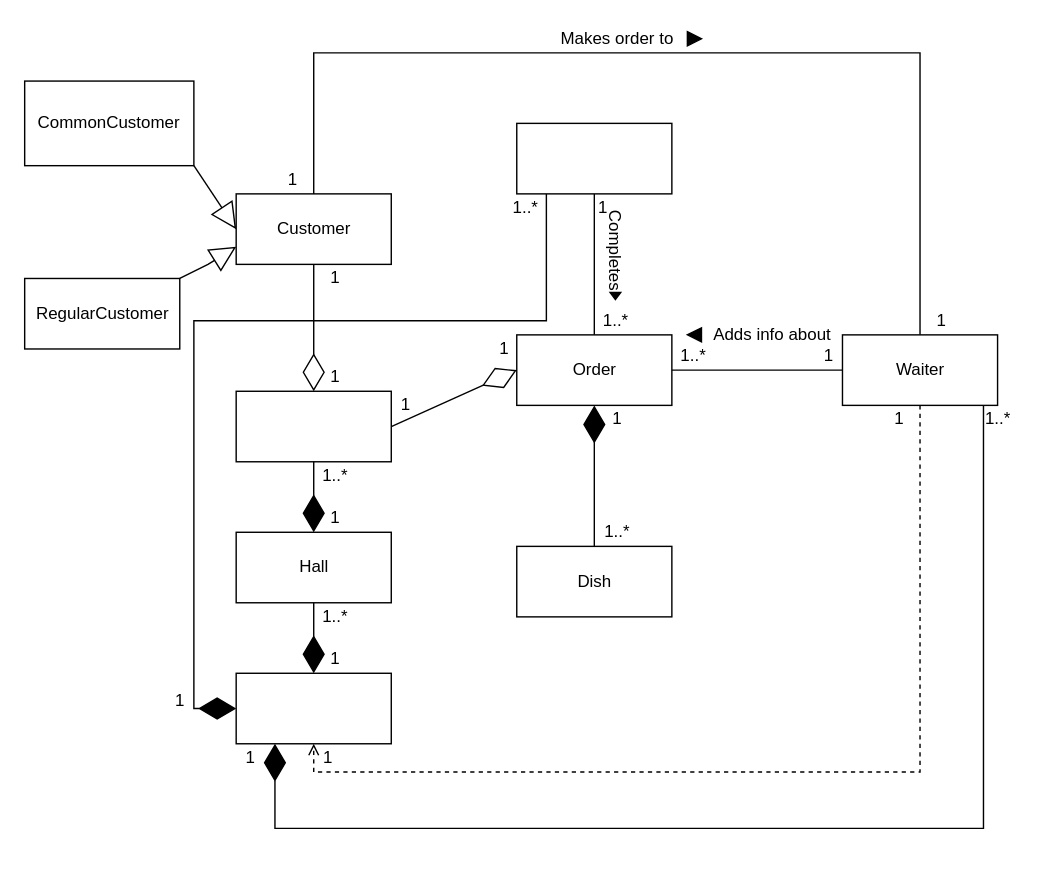
This 1045x890 diagram has some shape labels left out. The box of each missing label's shape, as (x1, y1, x2, y2) in pixels:
Cook: (515, 122, 672, 194)
Restaurant: (235, 672, 391, 744)
Seat: (235, 390, 391, 462)
